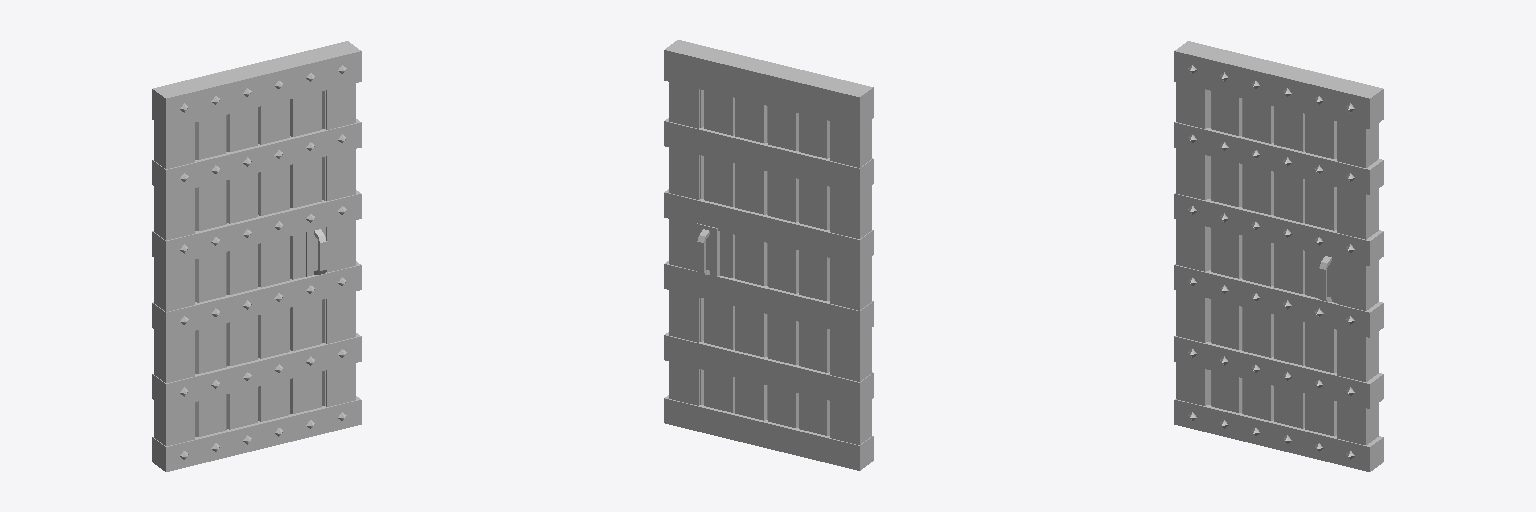
File: Door_3_Flat.obj
3 renders of one model, left to right at view 1: azimuth 30°, elevation 25°; view 2: azimuth 150°, elevation 25°; view 3: azimuth 330°, elevation 25°, orthographic.
Visible parts, largest first — view 1: Door_3_Flat; view 2: Door_3_Flat; view 3: Door_3_Flat.
Part boxes in pixels (x1,y1,x2,y2): Door_3_Flat: (152, 41, 361, 471); Door_3_Flat: (664, 40, 873, 470); Door_3_Flat: (1174, 41, 1383, 471).
Bounding box in the file's own units: 1.14 × 2.09 × 0.253.